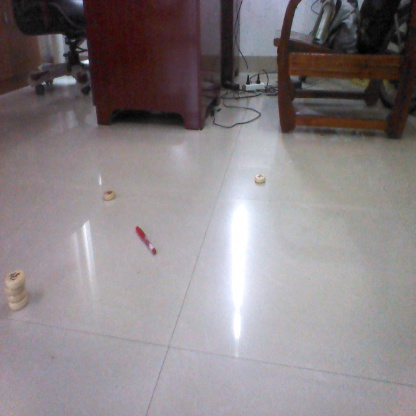chess: (6, 267, 27, 316), (101, 186, 117, 204), (253, 172, 270, 186)
pen: (134, 224, 160, 255)
